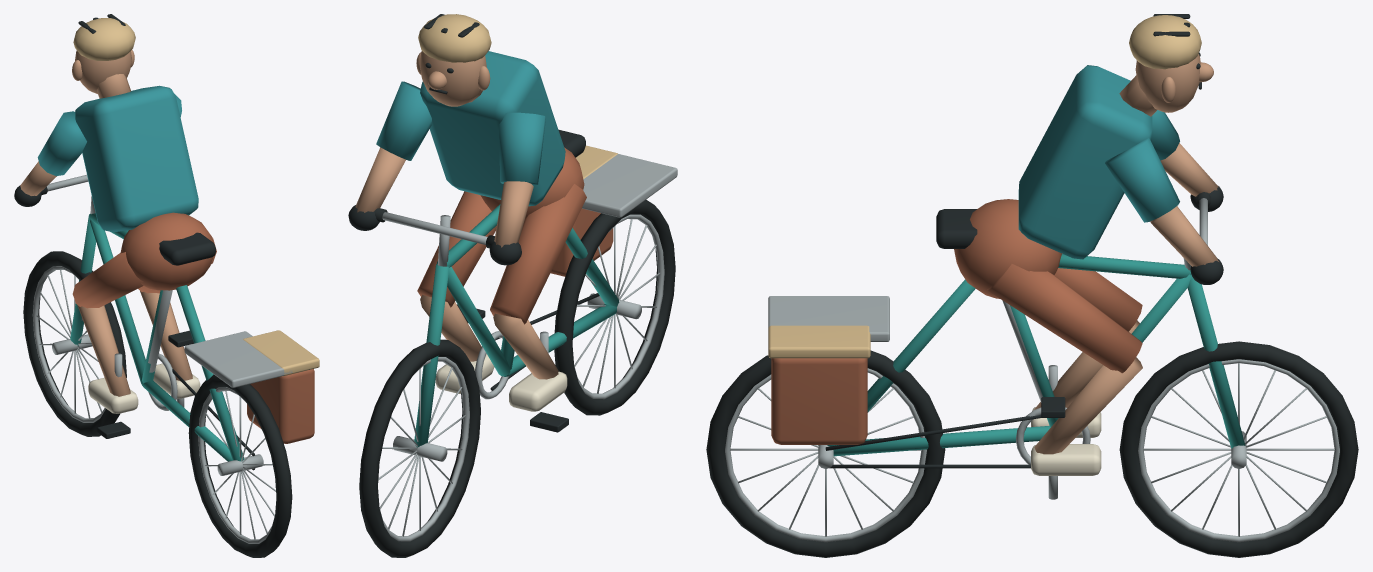
Rendered from pacific-cyclist.glb.
3 views of the same model, side by side, from view 1: azimuth 30°, elevation 25°; view 2: azimuth 150°, elevation 25°; view 3: azimuth 270°, elevation 25° (orthographic). The views are drawn at different scales.
Visible parts, largest first — view 1: LifeRoot_Visitor coastal linen.001, LifeRoot_Visitor rust shorts.001, LifeRoot_Bicycle sea green enamel, WheelBack_Bicycle rubber, LifeRoot_Bicycle polished fittings, WheelFront_Bicycle rubber, WheelBack_Bicycle polished fittings, WheelFront_Bicycle polished fittings, LegFrontL_Visitor rust shorts.001, Head_Visitor straw cap.001, KneeL_Visitor skin.001, LifeRoot_Visitor dark trim.001 (+7 smaller); view 2: LifeRoot_Visitor coastal linen.001, WheelFront_Bicycle rubber, LifeRoot_Bicycle sea green enamel, WheelBack_Bicycle rubber, LifeRoot_Bicycle polished fittings, LegFrontL_Visitor rust shorts.001, WheelFront_Bicycle polished fittings, WheelBack_Bicycle polished fittings, LifeRoot_Visitor skin.001, Head_Visitor straw cap.001, Head_Visitor skin.001, LifeRoot_Visitor rust shorts.001 (+8 smaller); view 3: LifeRoot_Visitor coastal linen.001, LifeRoot_Visitor rust shorts.001, WheelFront_Bicycle rubber, LifeRoot_Bicycle sea green enamel, WheelBack_Bicycle rubber, LegFrontR_Visitor rust shorts.001, WheelFront_Bicycle polished fittings, LifeRoot_Bicycle polished fittings, WheelBack_Bicycle polished fittings, LifeRoot_Visitor dark trim.001, LifeRoot_Visitor skin.001, LifeRoot_Visitor straw cap.001 (+6 smaller).
Part boxes in pixels (left/top/right/bottom): LifeRoot_Visitor coastal linen.001: left=37, top=85, right=198, bottom=232; LifeRoot_Visitor rust shorts.001: left=120, top=212, right=314, bottom=443; LifeRoot_Bicycle sea green enamel: left=70, top=213, right=244, bottom=461; WheelBack_Bicycle rubber: left=188, top=374, right=292, bottom=557; LifeRoot_Bicycle polished fittings: left=47, top=174, right=292, bottom=410; WheelFront_Bicycle rubber: left=23, top=251, right=126, bottom=436; WheelBack_Bicycle polished fittings: left=198, top=387, right=275, bottom=543; WheelFront_Bicycle polished fittings: left=32, top=266, right=105, bottom=422; LegFrontL_Visitor rust shorts.001: left=72, top=252, right=143, bottom=308; Head_Visitor straw cap.001: left=73, top=18, right=135, bottom=60; KneeL_Visitor skin.001: left=77, top=305, right=130, bottom=396; LifeRoot_Visitor dark trim.001: left=14, top=185, right=255, bottom=470; LifeRoot_Visitor coastal linen.001: left=376, top=51, right=565, bottom=206; WheelFront_Bicycle rubber: left=359, top=339, right=480, bottom=557; LifeRoot_Bicycle sea green enamel: left=414, top=204, right=619, bottom=447; WheelBack_Bicycle rubber: left=554, top=199, right=675, bottom=415; LifeRoot_Bicycle polished fittings: left=382, top=154, right=677, bottom=399; LegFrontL_Visitor rust shorts.001: left=490, top=184, right=586, bottom=324; WheelFront_Bicycle polished fittings: left=378, top=357, right=469, bottom=541; WheelBack_Bicycle polished fittings: left=574, top=214, right=664, bottom=399; LifeRoot_Visitor skin.001: left=355, top=90, right=533, bottom=247; Head_Visitor straw cap.001: left=418, top=14, right=491, bottom=62; Head_Visitor skin.001: left=416, top=51, right=490, bottom=106; LifeRoot_Visitor rust shorts.001: left=480, top=147, right=613, bottom=276; LifeRoot_Visitor coastal linen.001: left=1018, top=65, right=1179, bottom=259; LifeRoot_Visitor rust shorts.001: left=771, top=199, right=1061, bottom=444; WheelFront_Bicycle rubber: left=1119, top=341, right=1358, bottom=557; LifeRoot_Bicycle sea green enamel: left=827, top=254, right=1245, bottom=456; WheelBack_Bicycle rubber: left=706, top=350, right=945, bottom=557; LegFrontR_Visitor rust shorts.001: left=987, top=264, right=1142, bottom=373; WheelFront_Bicycle polished fittings: left=1138, top=359, right=1339, bottom=542; LifeRoot_Bicycle polished fittings: left=768, top=198, right=1207, bottom=465; WheelBack_Bicycle polished fittings: left=725, top=368, right=926, bottom=542; LifeRoot_Visitor dark trim.001: left=825, top=186, right=1223, bottom=468; LifeRoot_Visitor skin.001: left=1119, top=75, right=1218, bottom=266; LifeRoot_Visitor straw cap.001: left=768, top=325, right=870, bottom=358.
Bounding box in the file's own units: 0.65 × 1.85 × 2.04.
